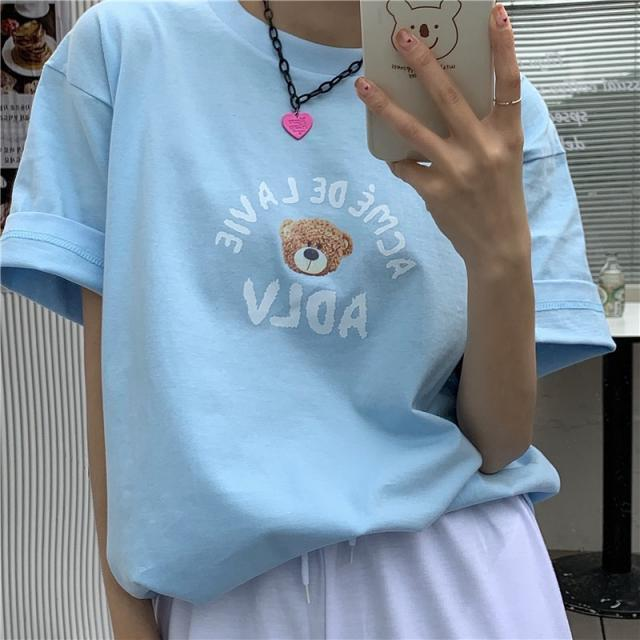Shirt: (0, 0, 622, 607)
